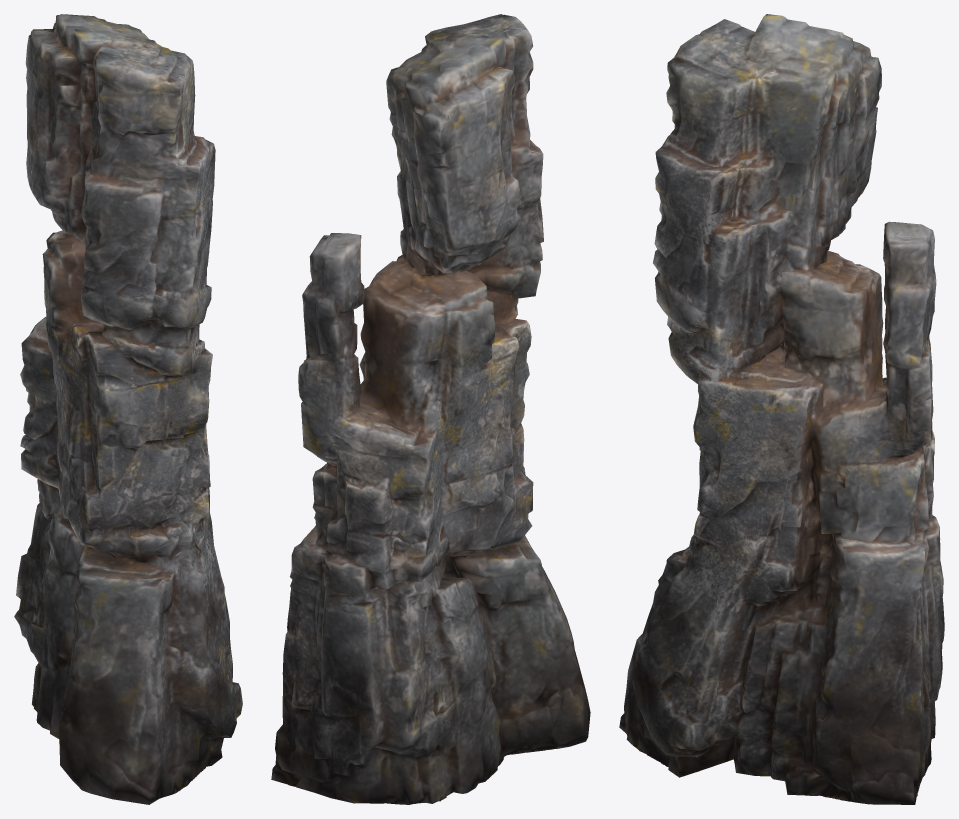
The model's file is cliff_c.glb.
3 views of the same model, side by side, from view 1: azimuth 30°, elevation 25°; view 2: azimuth 150°, elevation 25°; view 3: azimuth 270°, elevation 25° (orthographic).
Visible parts, largest first — view 1: C_Cliff_CM; view 2: C_Cliff_CM; view 3: C_Cliff_CM.
Boxes of the visible parts, box(x1,y1,x2,y2) form: C_Cliff_CM: box(14, 14, 242, 804); C_Cliff_CM: box(271, 14, 590, 804); C_Cliff_CM: box(619, 14, 944, 804).
Bounding box in the file's own units: 19.41 × 64.39 × 26.54.
1 material, 1 textured.
